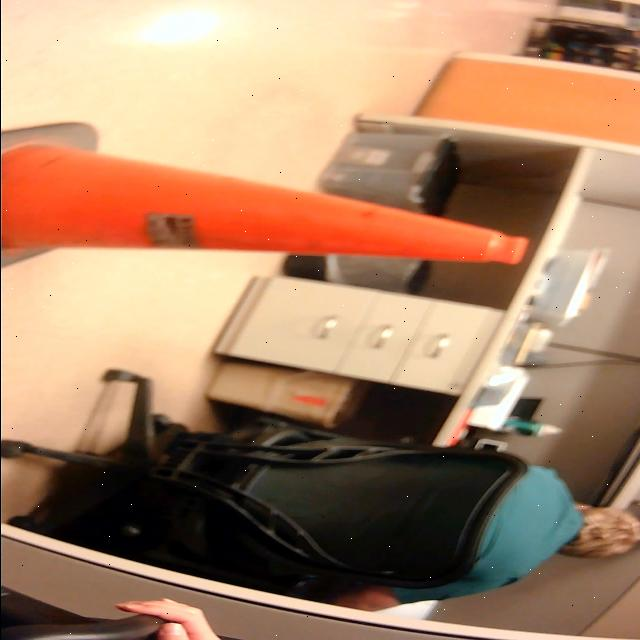traffic cone: (1, 119, 537, 280)
